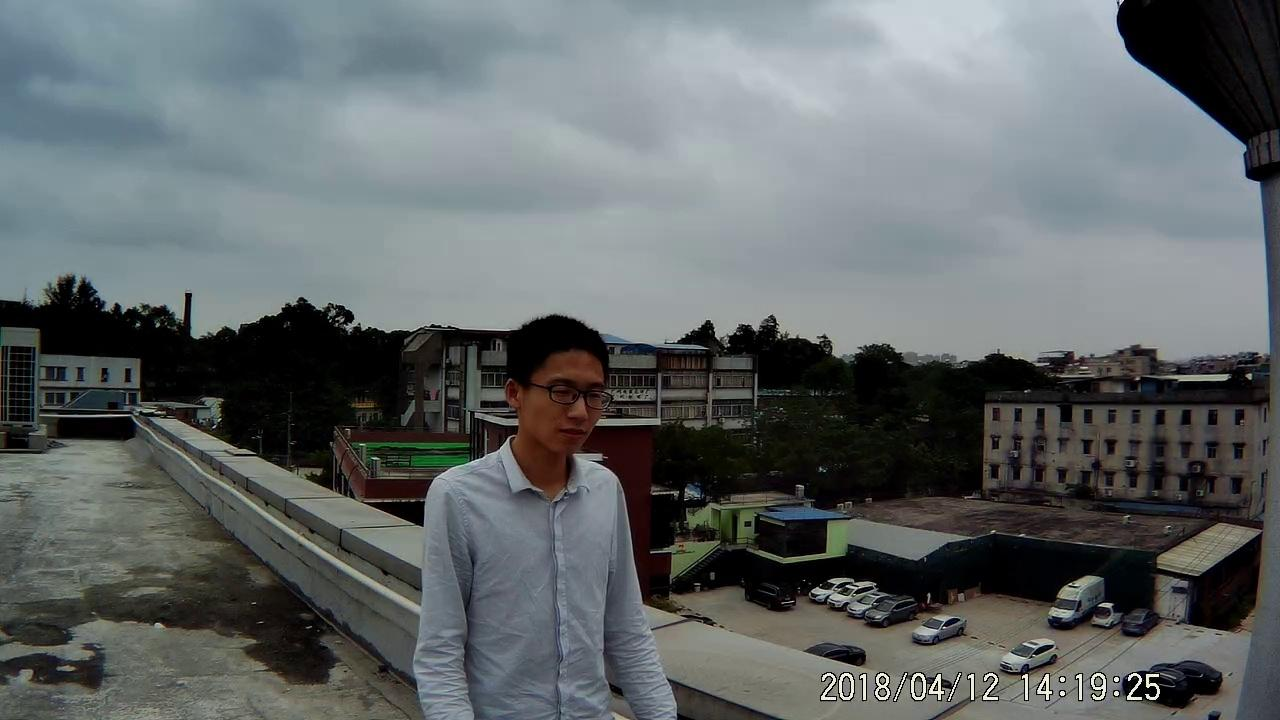NoHelmet: (502, 315, 611, 452)
NoVest: (418, 452, 638, 720)
